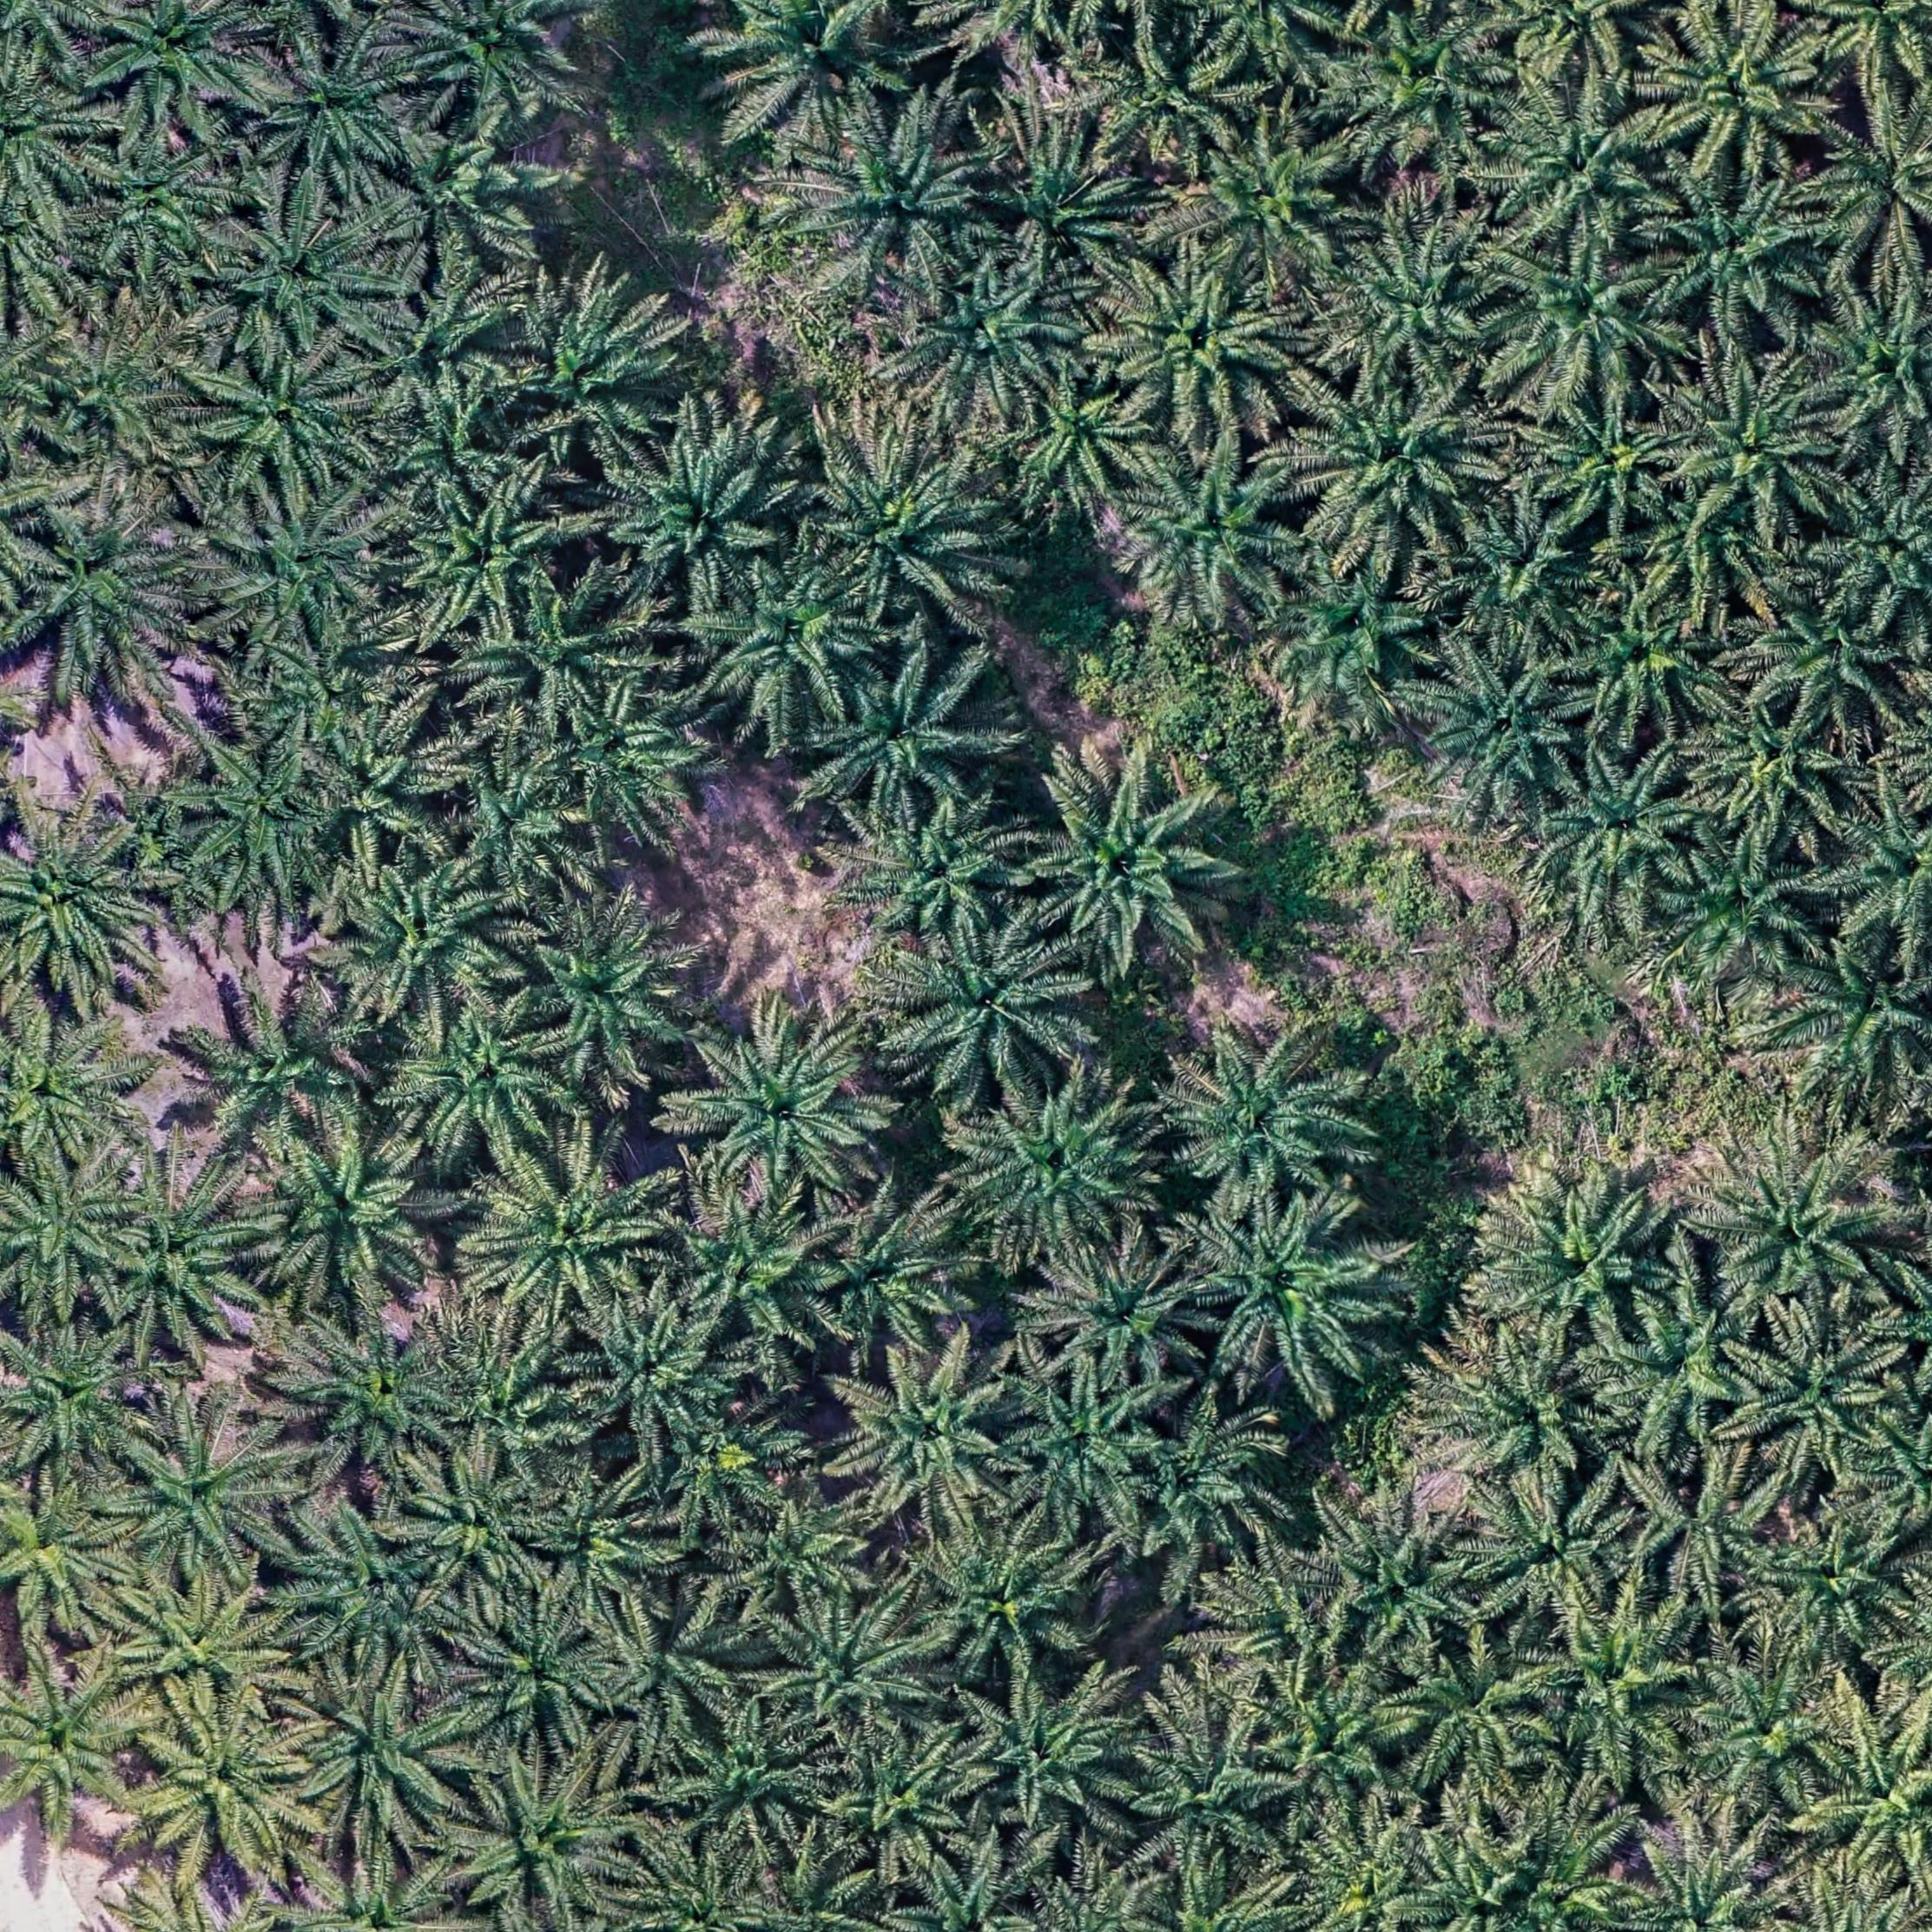palmtree: (1017, 766, 1231, 968), (1184, 1200, 1391, 1391), (239, 1120, 446, 1307), (679, 1014, 885, 1201), (955, 1079, 1166, 1261), (881, 916, 1088, 1100), (1295, 368, 1499, 552), (469, 1150, 671, 1332), (182, 977, 384, 1159), (1100, 253, 1299, 437), (14, 492, 200, 685), (131, 1702, 324, 1886), (1525, 1599, 1707, 1794), (274, 1502, 471, 1683), (281, 1665, 479, 1842), (495, 280, 681, 465), (97, 1164, 276, 1357), (688, 552, 878, 732), (837, 1345, 1028, 1522), (449, 1753, 646, 1925), (816, 441, 996, 626), (1171, 1030, 1362, 1205), (520, 899, 704, 1079), (1713, 1141, 1900, 1318), (957, 1670, 1146, 1845), (605, 433, 798, 605), (1486, 85, 1679, 257), (1486, 237, 1684, 403), (1486, 1175, 1672, 1352), (1120, 441, 1306, 617), (803, 113, 994, 283), (1327, 5, 1514, 177), (117, 1408, 301, 1582), (1642, 165, 1828, 336), (1658, 361, 1844, 533), (908, 1516, 1093, 1686), (278, 1311, 464, 1481), (1644, 11, 1828, 180), (662, 1189, 844, 1359), (1182, 122, 1364, 290), (395, 998, 577, 1166), (810, 660, 996, 824), (333, 862, 518, 1026), (211, 485, 398, 648), (0, 1651, 157, 1844), (892, 257, 1081, 416), (398, 476, 582, 637), (0, 812, 159, 998), (1431, 1332, 1614, 1493), (761, 1594, 947, 1752), (548, 676, 717, 849), (1276, 552, 1451, 718), (1120, 1405, 1290, 1575), (200, 343, 379, 502), (375, 115, 540, 285), (179, 736, 341, 908), (994, 1368, 1168, 1529), (1734, 1315, 1900, 1481), (115, 1571, 297, 1721), (1421, 648, 1591, 809), (1660, 824, 1831, 984), (255, 32, 423, 193), (214, 207, 391, 359), (1591, 1286, 1741, 1465), (980, 126, 1150, 283), (1470, 1477, 1645, 1629), (855, 800, 1035, 947), (1688, 1652, 1854, 1812), (1123, 1716, 1292, 1874), (1438, 490, 1603, 649), (718, 0, 918, 131), (1391, 1640, 1559, 1794), (807, 1207, 975, 1361), (467, 577, 642, 724), (1325, 235, 1502, 380), (1753, 1507, 1918, 1663), (1322, 1509, 1488, 1663), (568, 1299, 740, 1447), (1559, 586, 1730, 734), (347, 280, 524, 423), (299, 709, 460, 867), (456, 1599, 623, 1752), (591, 1592, 757, 1744), (1182, 1555, 1362, 1695), (1039, 1238, 1210, 1385), (1539, 748, 1684, 922), (407, 1445, 570, 1599), (248, 614, 416, 759), (814, 1729, 984, 1872), (432, 1325, 591, 1476), (1753, 584, 1913, 734), (648, 1392, 812, 1537), (4, 1322, 159, 1474), (671, 1711, 835, 1854), (1790, 941, 1932, 1108), (407, 0, 591, 127), (46, 322, 205, 469), (1003, 370, 1159, 517), (1700, 692, 1858, 837), (1626, 1453, 1787, 1594), (1806, 94, 1932, 274), (522, 1465, 672, 1615), (0, 1152, 142, 1309), (0, 1012, 142, 1168), (0, 1486, 136, 1647), (1534, 387, 1684, 529), (1808, 1720, 1932, 1891), (1808, 469, 1932, 639), (1099, 32, 1251, 168), (722, 1493, 879, 1624), (1810, 281, 1932, 449), (99, 0, 264, 124), (92, 138, 237, 276), (448, 763, 593, 901), (1281, 1675, 1417, 1822), (1506, 1801, 1649, 1932), (1610, 1838, 1799, 1932), (1831, 780, 1932, 954), (272, 1851, 474, 1932), (1637, 479, 1764, 607), (621, 1842, 796, 1932), (0, 60, 103, 205), (888, 1851, 1053, 1932), (1304, 1822, 1417, 1932), (1808, 0, 1932, 88), (1408, 1838, 1523, 1932)
